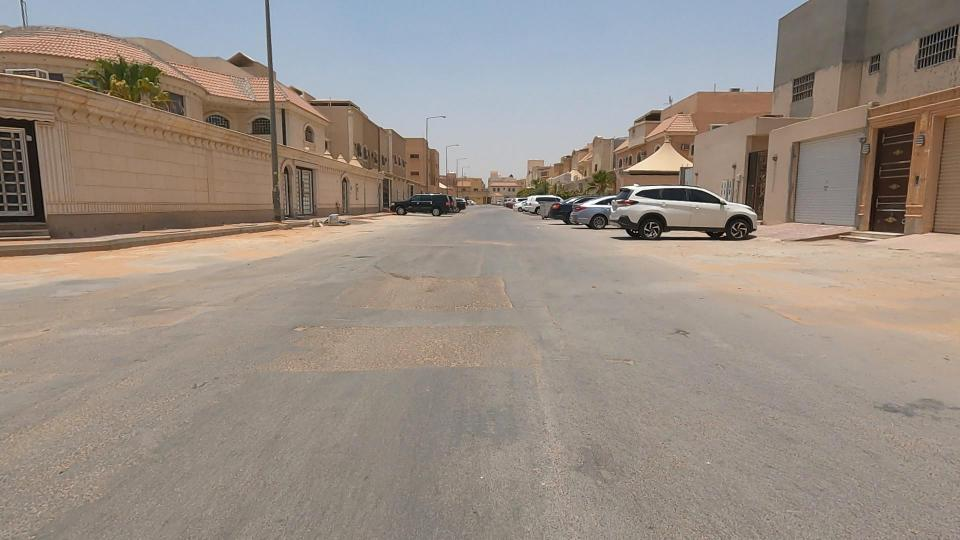POTHOLES: (311, 233, 546, 335), (242, 297, 375, 379)
